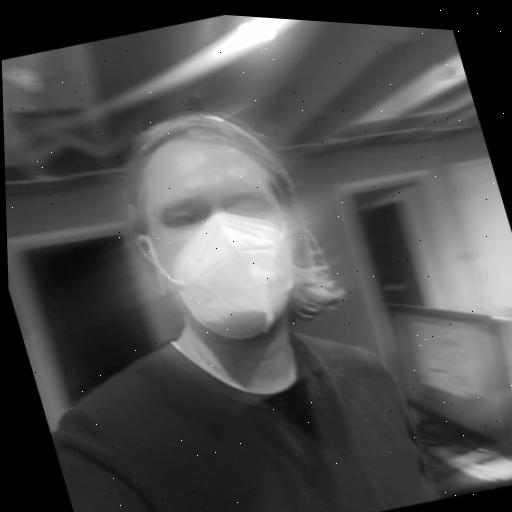mask: (80, 66, 362, 399)
